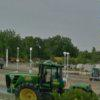Tractor: (8, 51, 86, 100)
